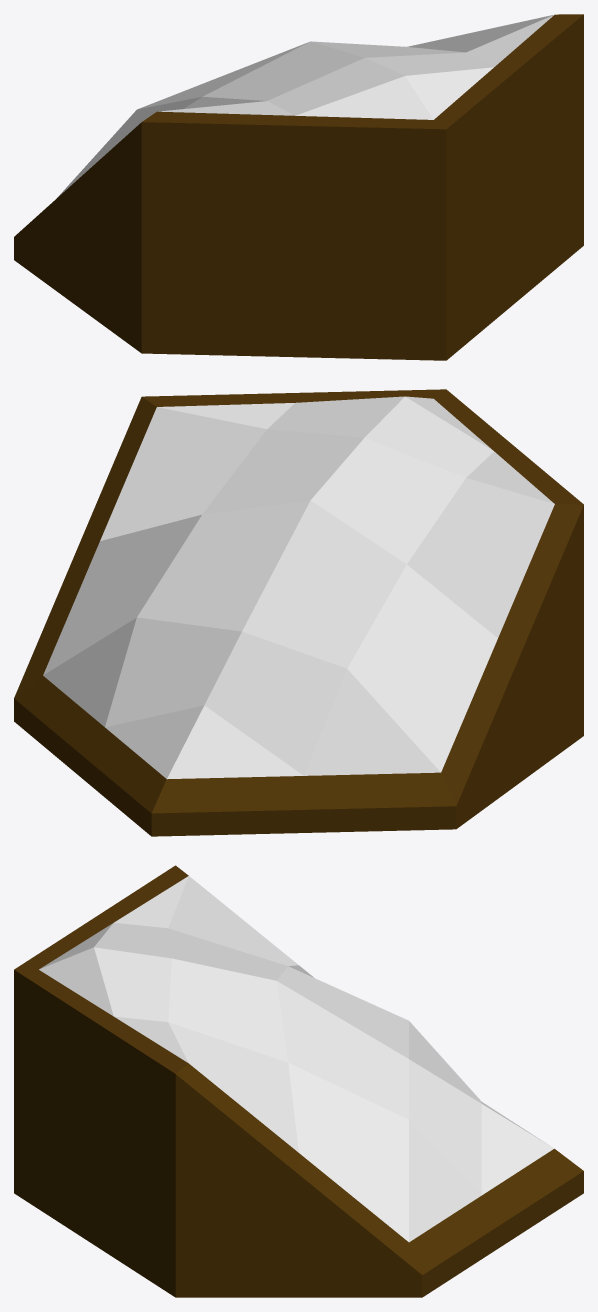
The model's file is compacter.fbx.
3 renders of one model, top to bottom at view 1: azimuth 30°, elevation 25°; view 2: azimuth 150°, elevation 25°; view 3: azimuth 270°, elevation 25°, orthographic. The views are drawn at different scales.
Visible parts, largest first — view 1: Compresser Base; view 2: Compresser Base; view 3: Compresser Base.
Part boxes in pixels (x1,y1,x2,y2): Compresser Base: [14, 14, 583, 360]; Compresser Base: [14, 389, 583, 836]; Compresser Base: [14, 865, 583, 1297].
Bounding box in the file's own units: 200 × 110 × 231.
